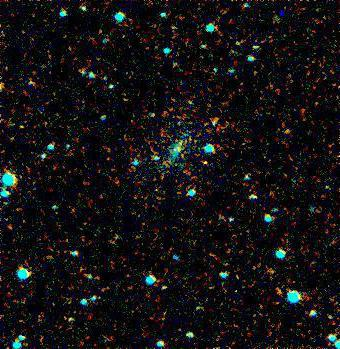star: (191, 145, 221, 175)
